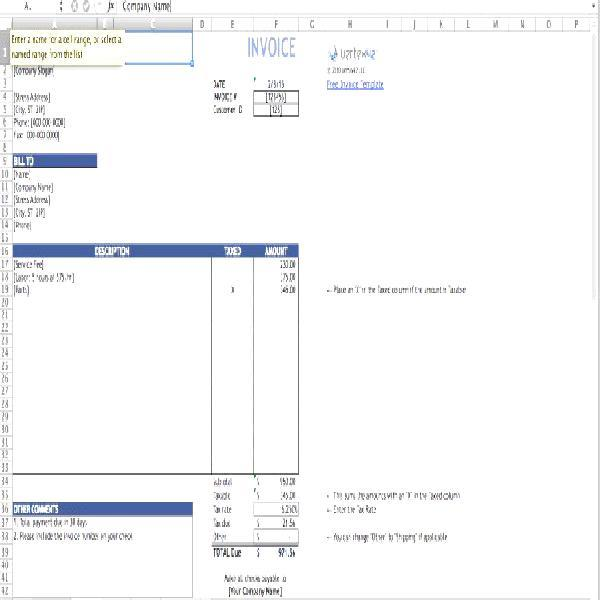test: (0, 0, 599, 599)
